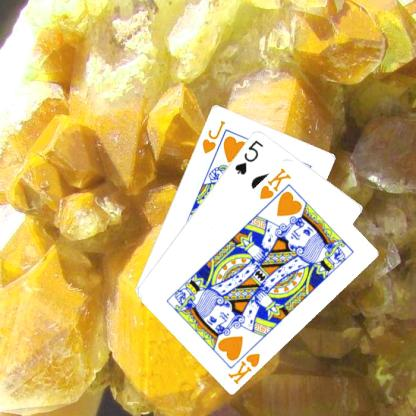5S: (232, 137, 264, 176)
JH: (199, 118, 227, 154)
KH: (224, 350, 262, 385), (257, 164, 292, 201)
